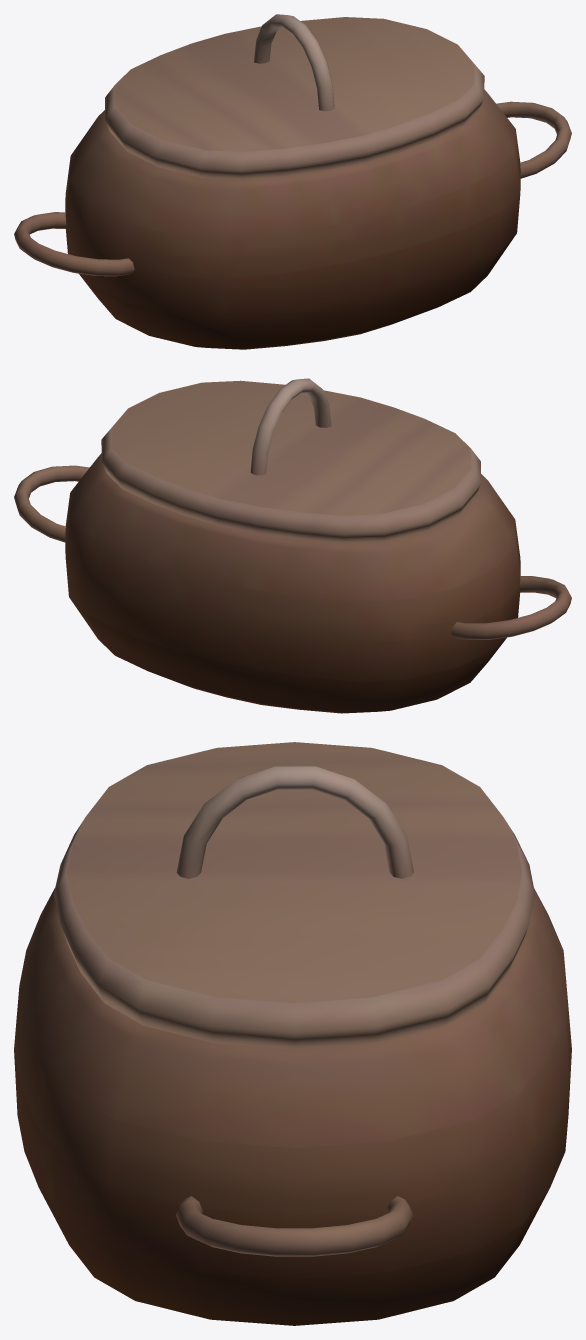
Rendered from M_Basket_01.fbx.
3 renders of one model, top to bottom at view 1: azimuth 30°, elevation 25°; view 2: azimuth 150°, elevation 25°; view 3: azimuth 270°, elevation 25°, orthographic. The views are drawn at different scales.
Visible parts, largest first — view 1: M_Basket_01; view 2: M_Basket_01; view 3: M_Basket_01.
Boxes of the visible parts, <box> form: M_Basket_01: <box>14,14,571,349</box>; M_Basket_01: <box>14,378,571,713</box>; M_Basket_01: <box>14,742,571,1325</box>.
Bounding box in the file's own units: 91.53 × 43.17 × 50.3.
1 material, 1 textured.
